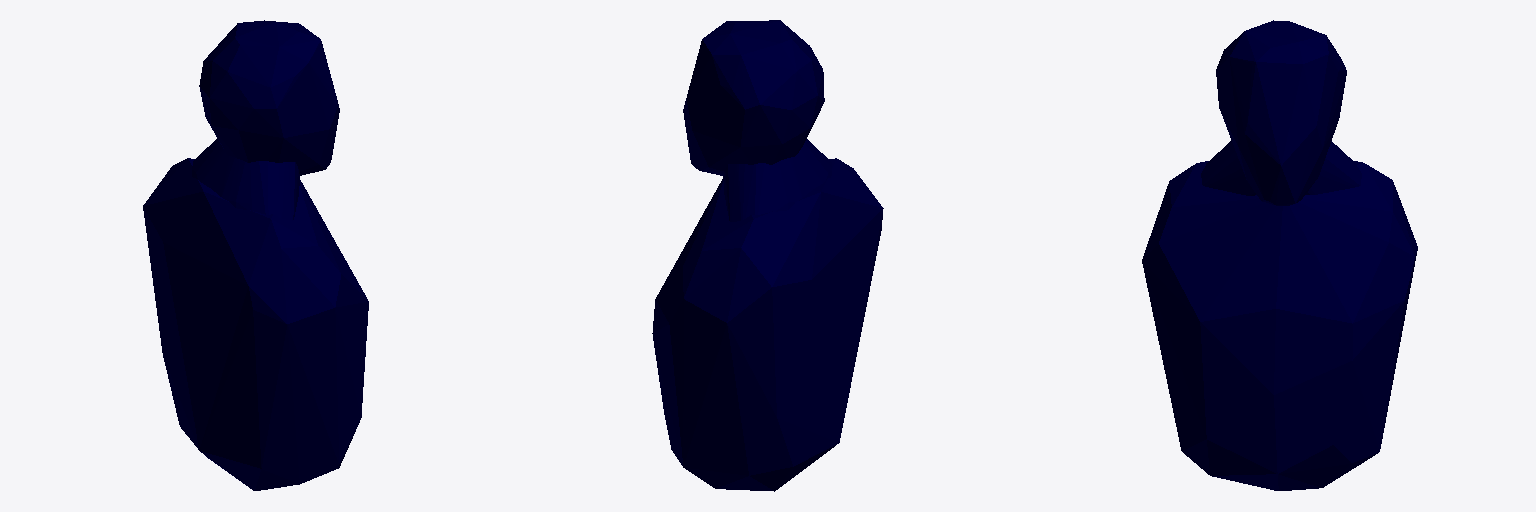
The robot description file, URDF, robot "torso":
<?xml version="1.0" ?>
<robot name="torso">
	<link name="torso">
		<inertial>
			<origin xyz="0 0 0" rpy="0 0 0" />
			<mass value="24.0"/>
			<inertia ixx="1.1" ixy="0" ixz="0"
			iyy="1.1" iyz="0"
			izz="1.1" />
		</inertial>
		<visual>
			<origin xyz="0 0 -0.20" rpy="0 0 0" />
			<geometry>
				<mesh filename="package://torso_description/meshes/TorsoHeadLink.stl" />
			</geometry>
			<material name="SemiTransparentNavy">
				<color rgba="0.0 0.0 0.25 0.5" />
			</material>
		</visual>
	</link>
</robot>

--- Render facts (derived) ---
Views: 3 orthographic renders of the robot side by side, from view 1: azimuth 30°, elevation 25°; view 2: azimuth 150°, elevation 25°; view 3: azimuth 270°, elevation 25°.
Model torso with 1 links and 0 joints (none), rooted at torso, posed every joint at zero.
Visible links, largest first — view 1: torso; view 2: torso; view 3: torso.
Link boxes in pixels (bbox=[...]): torso: bbox=[143, 20, 368, 490]; torso: bbox=[652, 20, 883, 491]; torso: bbox=[1142, 20, 1417, 490].
Bounding box of the posed robot: 0.2732 × 0.4157 × 0.7372 m (x, y, z).
1 mesh visuals loaded from 1 distinct referenced files (1 binary STL).
